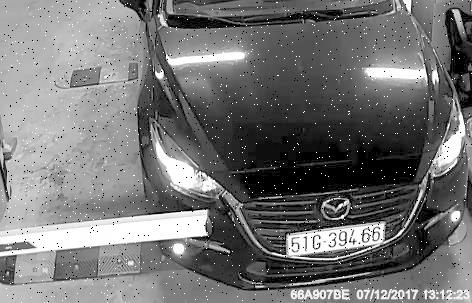License-plate: (281, 222, 391, 259)
